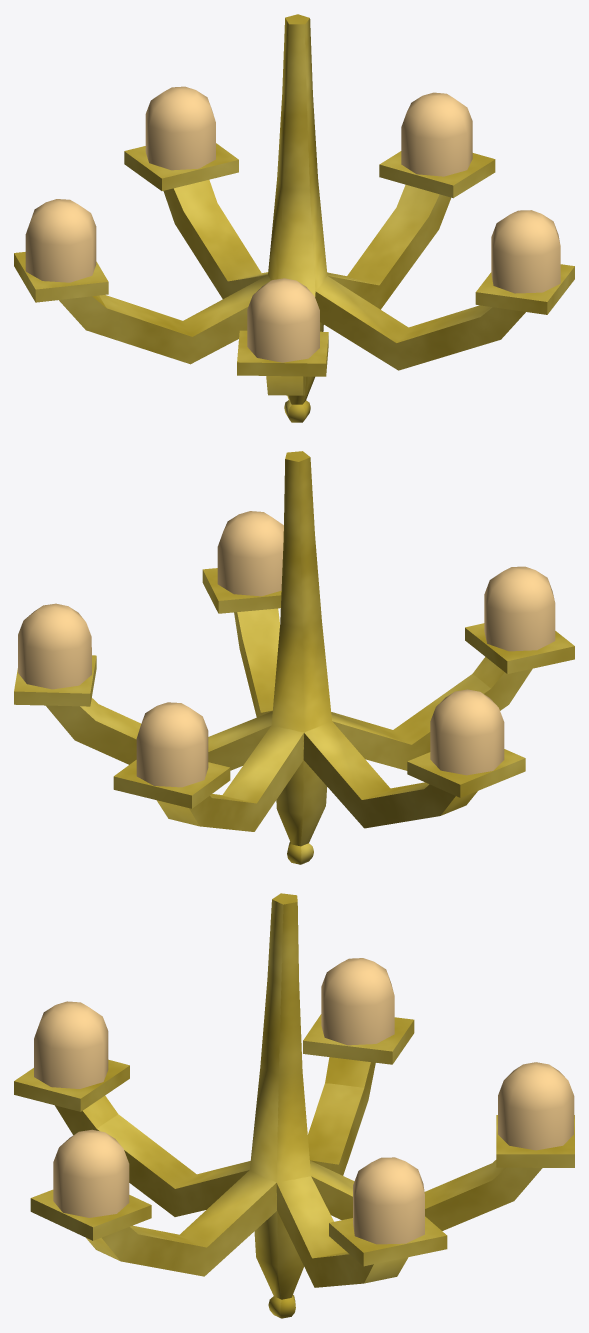
Rendered from Chandalier.fbx.
3 views of the same model, one above another, from view 1: azimuth 30°, elevation 25°; view 2: azimuth 150°, elevation 25°; view 3: azimuth 270°, elevation 25° (orthographic). The views are drawn at different scales.
Parts seen in each view (by area): view 1: GRC; view 2: GRC; view 3: GRC.
Boxes of the visible parts, <box> form: GRC: <box>14,14,574,422</box>; GRC: <box>14,451,574,864</box>; GRC: <box>14,893,574,1318</box>.
Size of the model in its own units: 365 by 291 by 355.
1 material, 1 textured.
